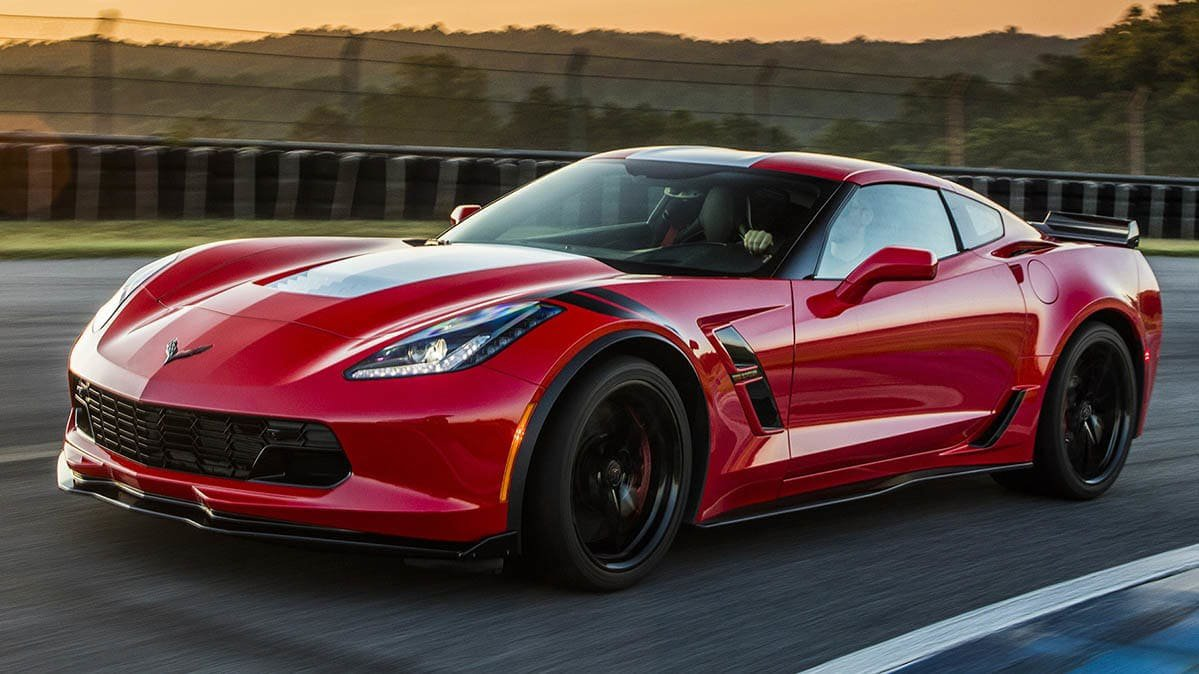car: (57, 137, 1155, 581)
